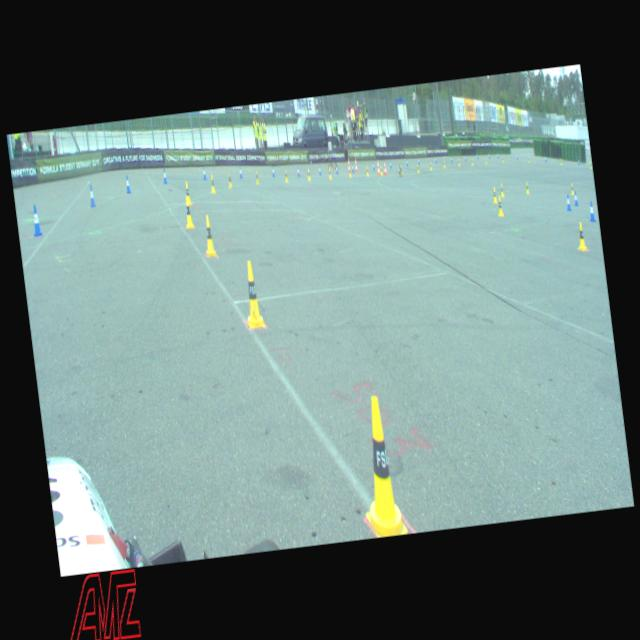blue_cone: (28, 204, 42, 236), (87, 184, 96, 207), (588, 200, 596, 222), (564, 194, 572, 212), (124, 174, 131, 193), (161, 168, 167, 184), (572, 190, 578, 206), (201, 166, 206, 179), (238, 165, 243, 178), (318, 164, 322, 176), (271, 166, 275, 177), (296, 166, 300, 176), (334, 164, 338, 174), (351, 162, 354, 172), (405, 158, 408, 167), (487, 150, 490, 159), (389, 160, 392, 168), (417, 156, 420, 164), (544, 154, 547, 162), (577, 157, 580, 165), (434, 156, 437, 163), (372, 161, 374, 170), (450, 154, 452, 163), (464, 154, 466, 162), (476, 151, 478, 159), (496, 150, 498, 158), (516, 153, 518, 160)
large_orange_cone: (382, 158, 387, 174), (353, 156, 358, 172), (346, 158, 351, 172), (376, 160, 380, 176)
yellow_cone: (351, 393, 407, 538), (239, 259, 266, 330), (201, 214, 217, 258), (574, 220, 588, 251), (182, 196, 194, 229), (184, 180, 192, 203), (496, 195, 504, 216), (208, 173, 216, 193), (491, 186, 498, 204), (226, 171, 232, 188), (498, 182, 504, 197), (254, 170, 260, 184), (524, 182, 530, 194), (306, 168, 311, 181), (284, 168, 288, 182), (570, 182, 574, 195), (347, 166, 351, 177), (364, 166, 368, 176), (328, 168, 332, 178), (588, 160, 592, 170), (442, 160, 446, 168), (416, 164, 420, 172), (526, 155, 530, 163), (429, 162, 432, 170), (457, 158, 460, 166), (471, 157, 474, 165), (501, 154, 504, 162), (559, 157, 562, 165), (380, 164, 382, 175), (484, 156, 486, 163)
